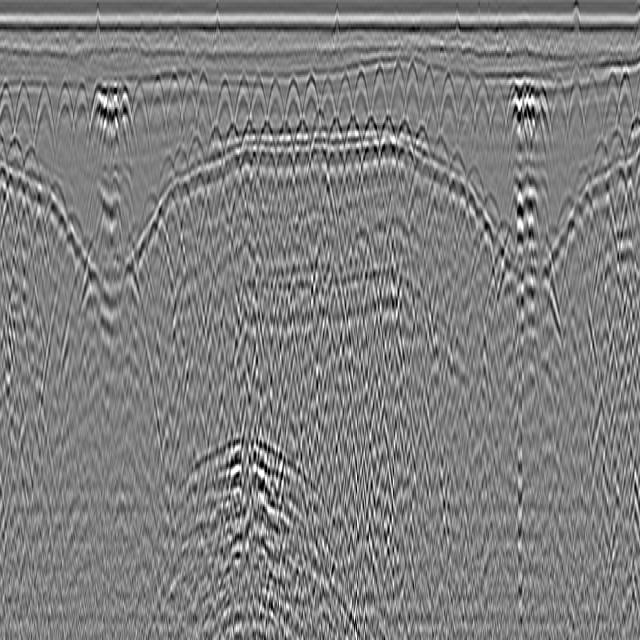hyperbola: (51, 74, 74, 158), (546, 74, 570, 153), (31, 78, 54, 156), (70, 80, 90, 166), (419, 61, 440, 140), (599, 55, 618, 138), (389, 61, 407, 148), (129, 81, 149, 158), (456, 65, 474, 148), (148, 68, 166, 150), (196, 55, 213, 140), (584, 55, 602, 135), (566, 71, 585, 145), (215, 68, 235, 138), (165, 61, 182, 143), (14, 80, 35, 146), (441, 61, 458, 140), (351, 58, 371, 125), (370, 61, 390, 128), (471, 80, 491, 146), (320, 58, 338, 130), (616, 68, 635, 136), (232, 61, 250, 132), (0, 74, 15, 158), (119, 68, 133, 158), (406, 52, 422, 130), (336, 61, 354, 130), (491, 78, 508, 150), (248, 68, 266, 135), (181, 68, 197, 143), (302, 71, 321, 130), (283, 71, 301, 133), (264, 80, 284, 132)
